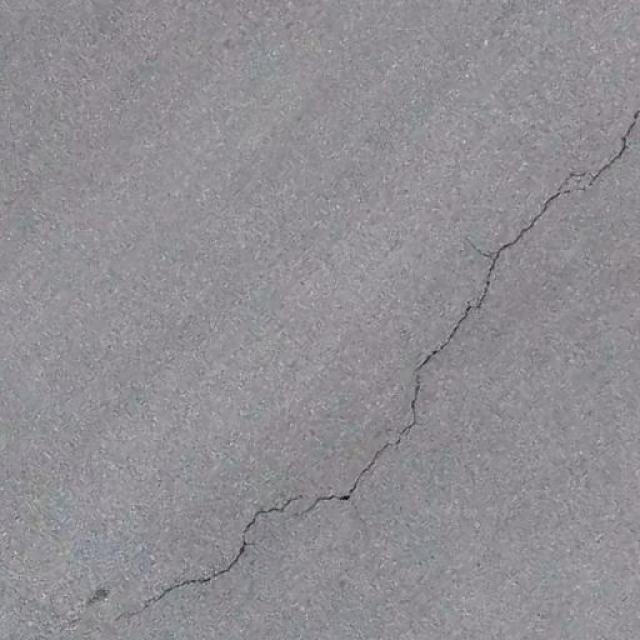Crack: (445, 68, 640, 326), (104, 463, 380, 629), (368, 290, 478, 481)
